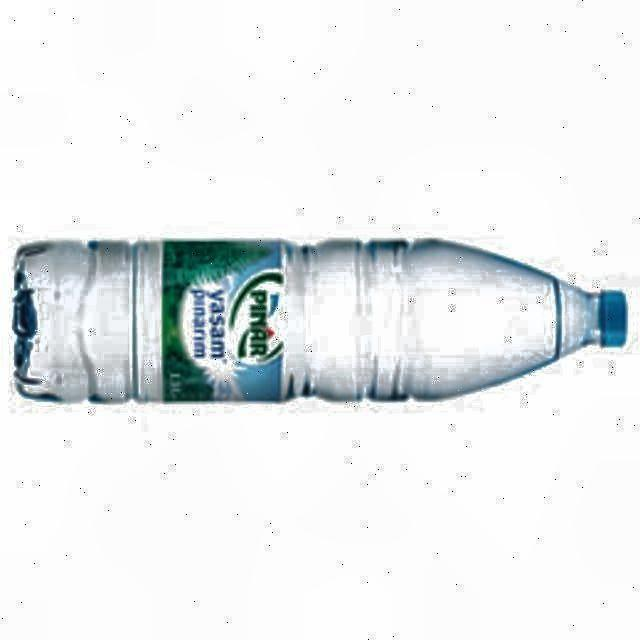plastic: (12, 240, 626, 401)
